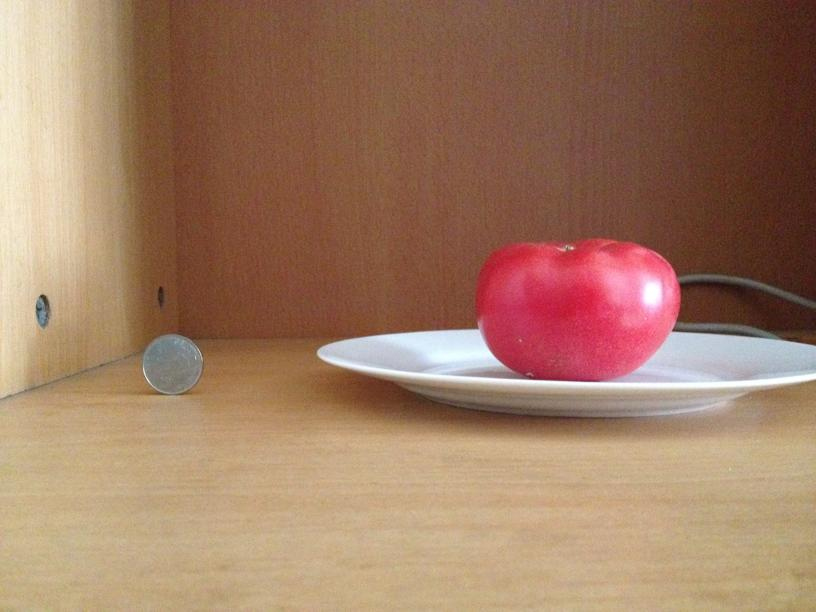coin: (140, 333, 203, 394)
tomato: (481, 237, 681, 380)
